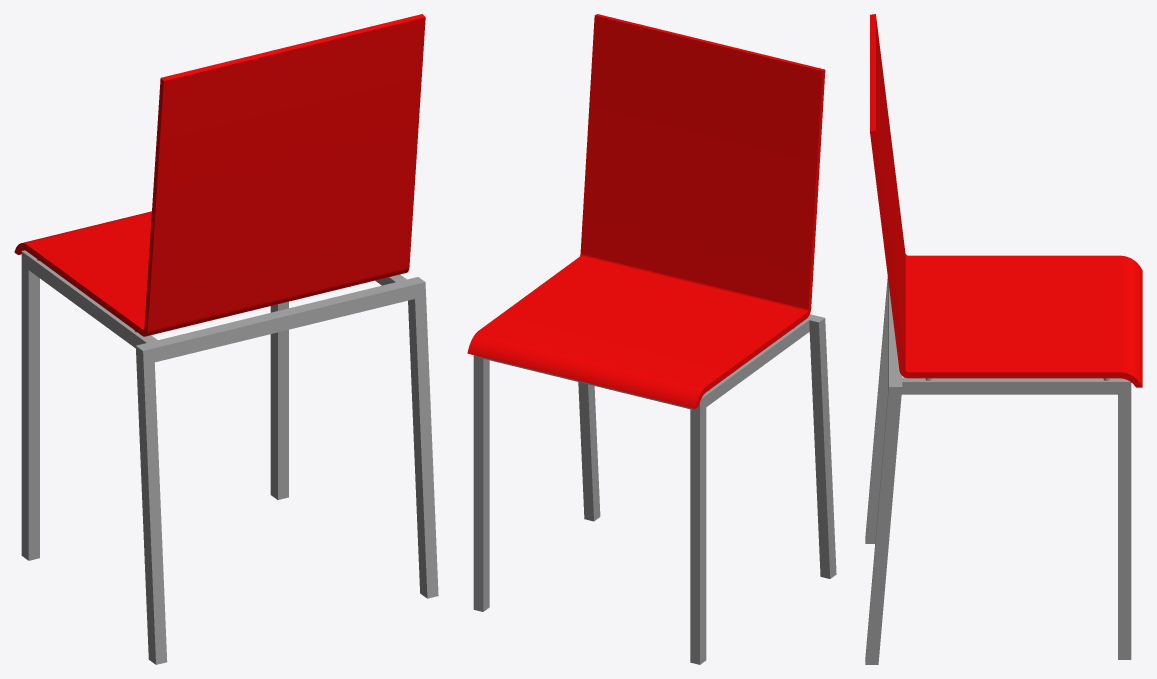
The picture shows the model from 3 angles, left to right: view 1: azimuth 30°, elevation 25°; view 2: azimuth 150°, elevation 25°; view 3: azimuth 270°, elevation 25°; orthographic projection. The views are drawn at different scales.
Parts seen in each view (by area): view 1: mesh16_mesh16-geometry, mesh1_mesh1-geometry; view 2: mesh16_mesh16-geometry, mesh1_mesh1-geometry; view 3: mesh16_mesh16-geometry, mesh1_mesh1-geometry.
Part boxes in pixels (x1,y1,x2,y2): mesh16_mesh16-geometry: (14, 14, 425, 336); mesh1_mesh1-geometry: (21, 250, 438, 664); mesh16_mesh16-geometry: (467, 14, 825, 408); mesh1_mesh1-geometry: (473, 314, 836, 664); mesh16_mesh16-geometry: (870, 14, 1142, 387); mesh1_mesh1-geometry: (865, 277, 1131, 664).
Bounding box in the file's own units: 0.418 × 0.8206 × 0.3896.
